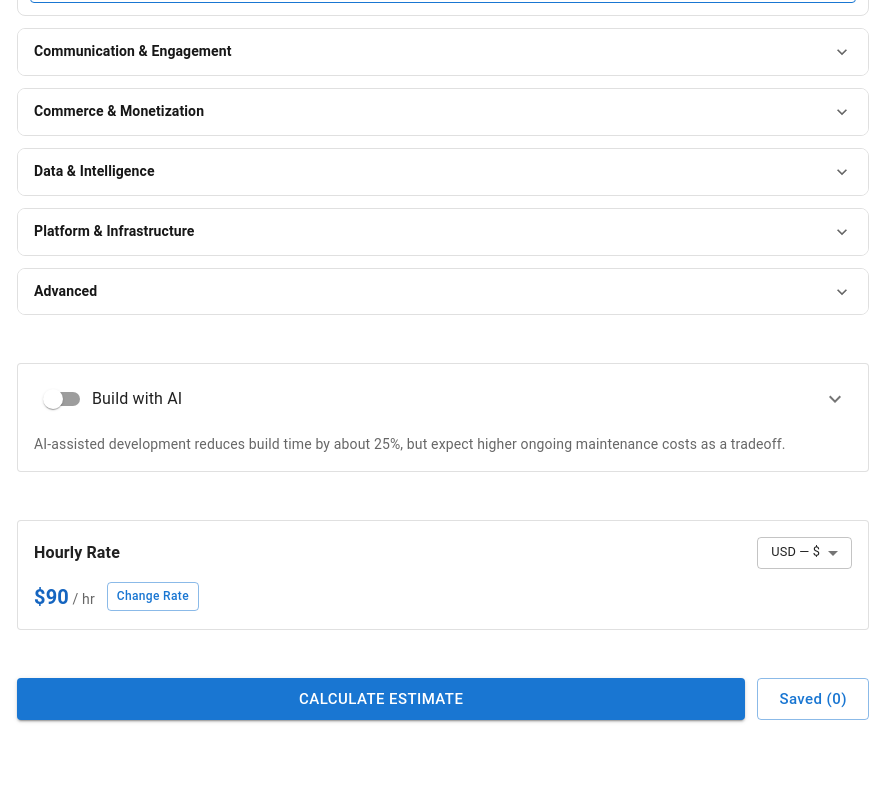
Scenario: CostEstimator › handleToggleAi › clicking Build with AI switch toggles and marks estimate stale after calculation
(page scrolled)
Calculate first
Click the button "Calculate Estimate".
click(381, 699)  # box [17,678,745,720]
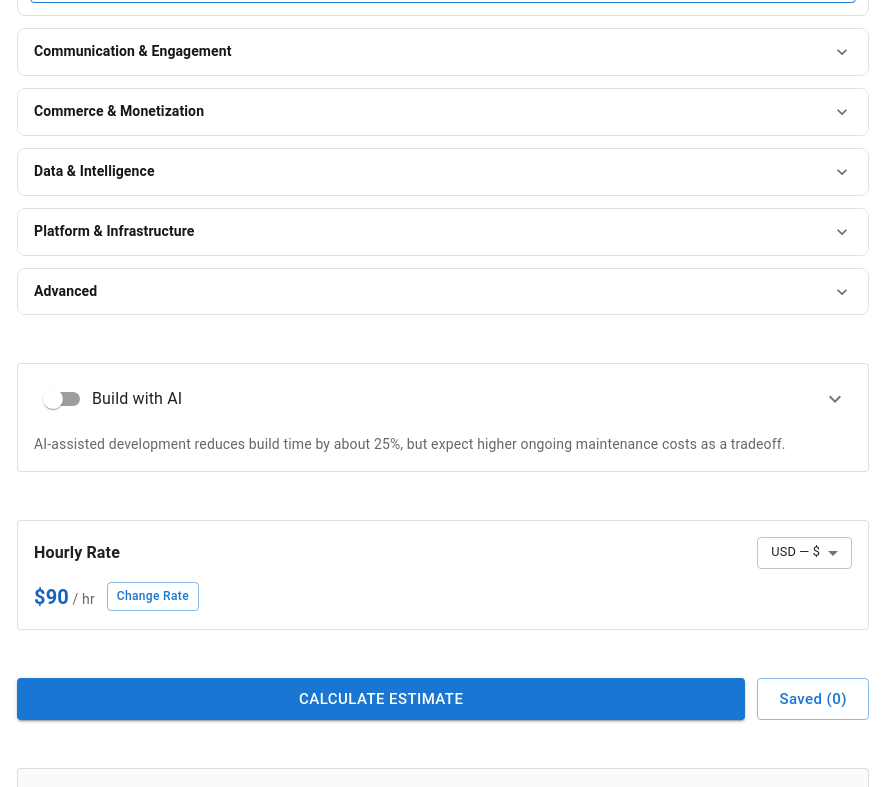
Toggle AI via fireEvent
Click the switch.
click(113, 400)  # box [43,390,182,410]
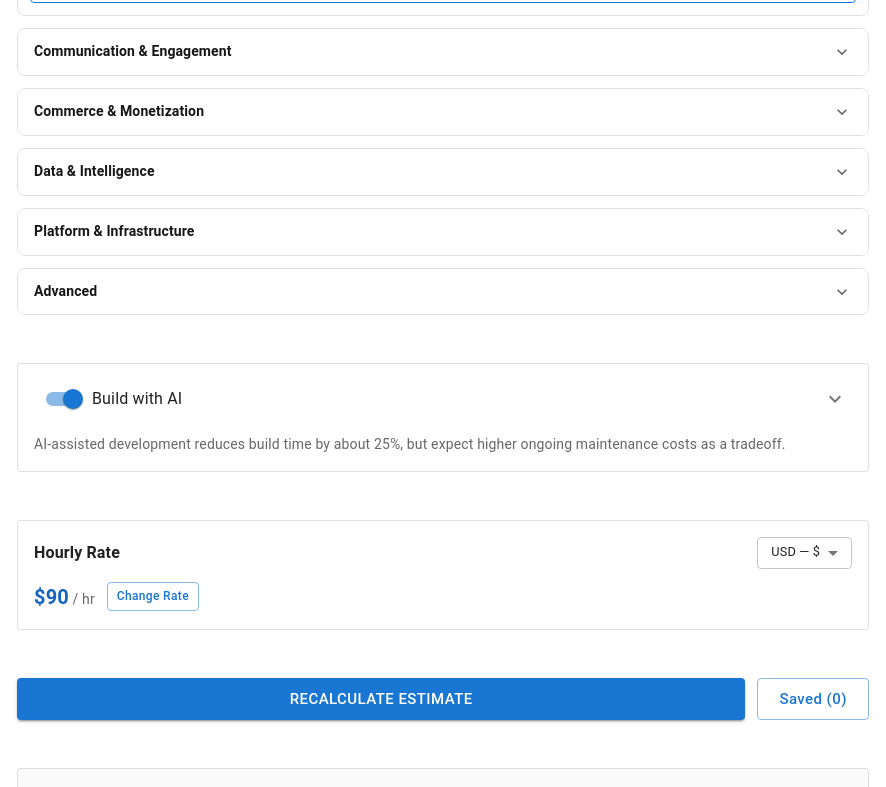
Expected: the button "Recalculate Estimate" is shown, [17,678,745,720]
